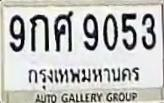0: (102, 13, 117, 50)
3: (141, 12, 155, 49)
5: (121, 12, 136, 50)
9: (82, 13, 98, 50), (8, 14, 24, 51)
A01: (29, 13, 48, 51)
A38: (53, 10, 73, 51)
BKK: (25, 62, 141, 87)
